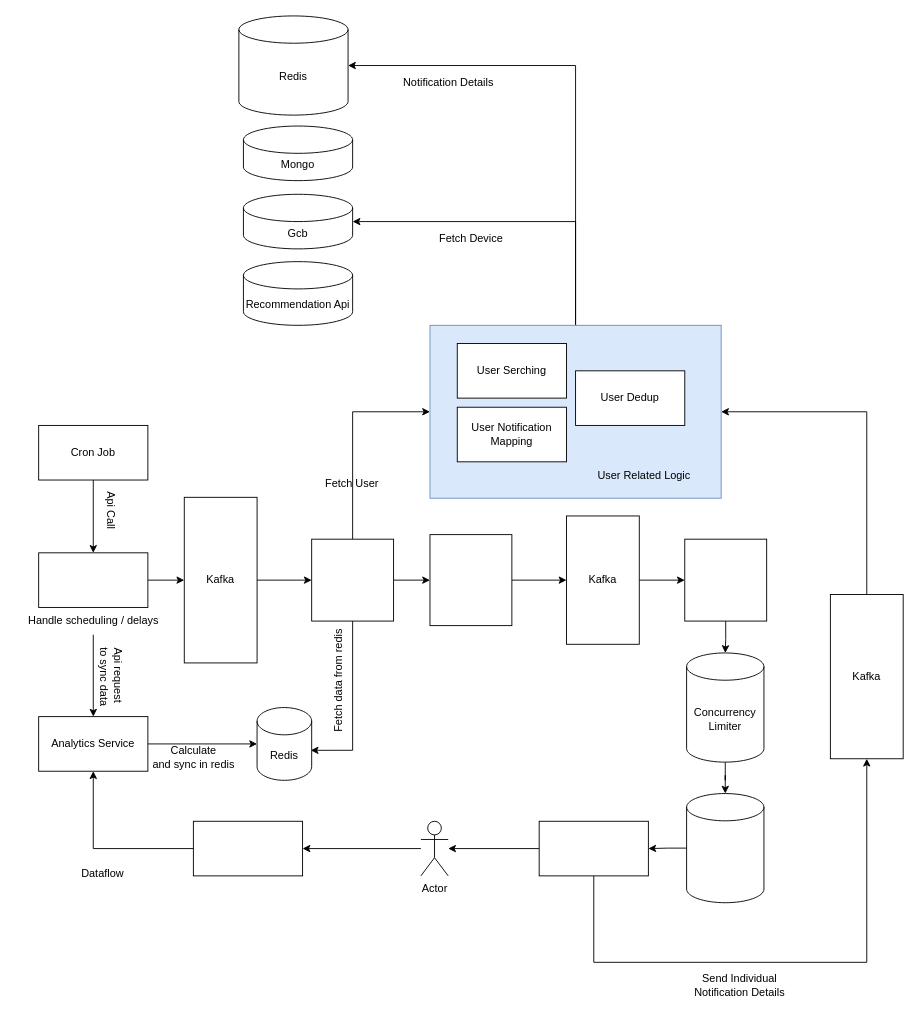
This 919x1019 diagram has some shape labels left out. Here are the shapes that lost their labels. From the top down, the centre of each, then its label:
the point at 93,579: Notification Service
the point at 352,579: Notification consumers based on types
the point at 470,580: Batch User and trigger notification
the point at 725,579: Parse Service
the point at 247,848: Events
the point at 593,848: FCM Push
the point at 725,848: Rate Limiter for FCM
